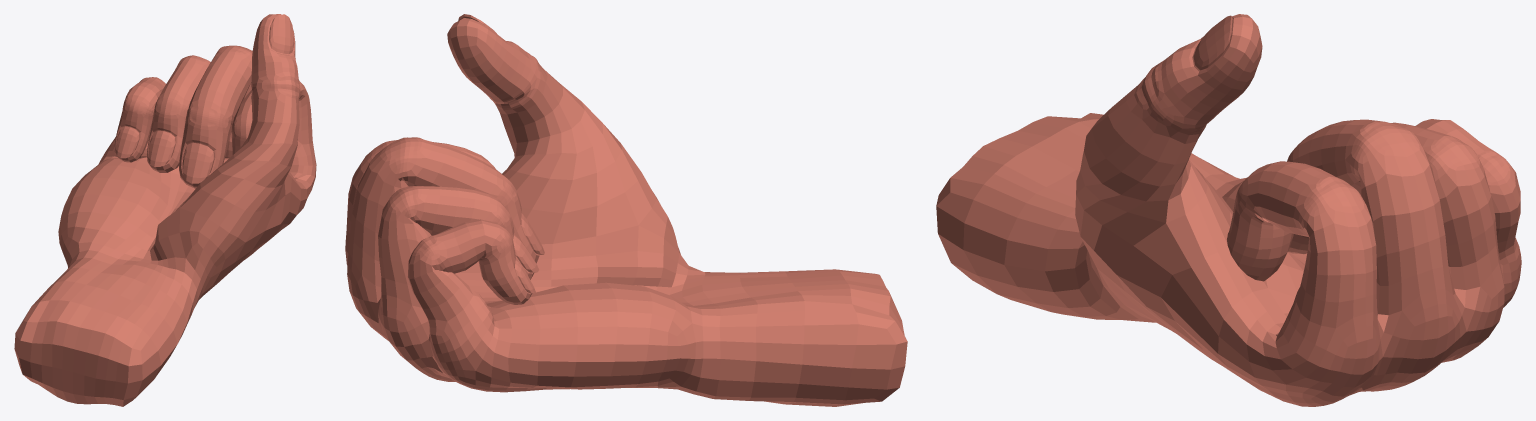
3 renders of one model, left to right at view 1: azimuth 30°, elevation 25°; view 2: azimuth 150°, elevation 25°; view 3: azimuth 270°, elevation 25°, orthographic. The views are drawn at different scales.
Parts seen in each view (by area): view 1: ZBrushPolyMesh3D; view 2: ZBrushPolyMesh3D; view 3: ZBrushPolyMesh3D.
Boxes of the visible parts, box(x1,y1,x2,y2) form: ZBrushPolyMesh3D: box(14, 14, 316, 406); ZBrushPolyMesh3D: box(345, 14, 907, 406); ZBrushPolyMesh3D: box(936, 14, 1521, 406).
Size of the model in its own units: 3.58 by 2.64 by 3.04.
